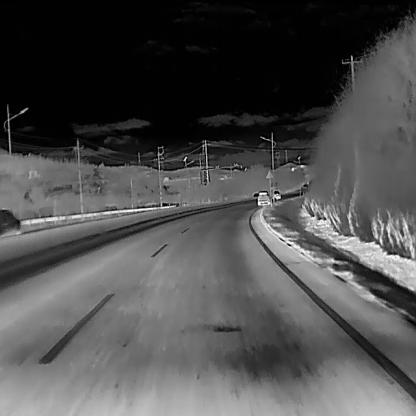car: (0, 207, 20, 233), (255, 190, 270, 206), (273, 188, 280, 198)
